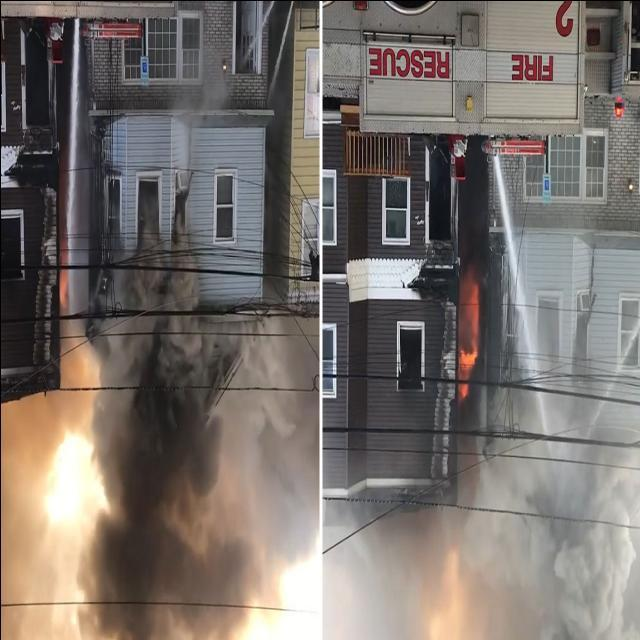Fire: (429, 242, 487, 430)
